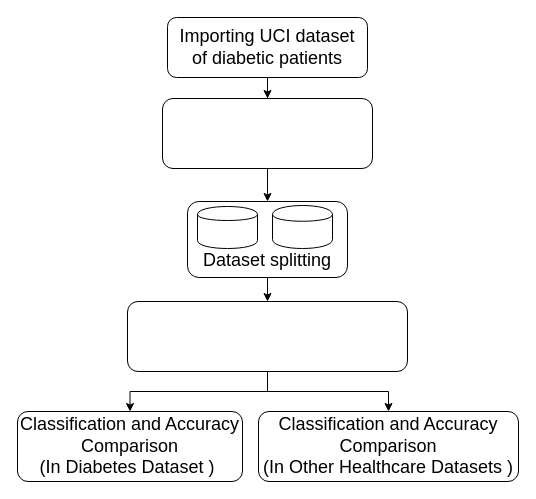
The diagram is 536 pixels wide and 499 high, and some of its shapes have lost their labels. The centre of each missing label's shape, as x and y in pixels:
Data Pre Processing (One hot Encoding Data Normalization Null Value Checking): the point at 267,133
Ensemble Modelling (SVM, ANN, Random Forest and XgBoost): the point at 267,336
